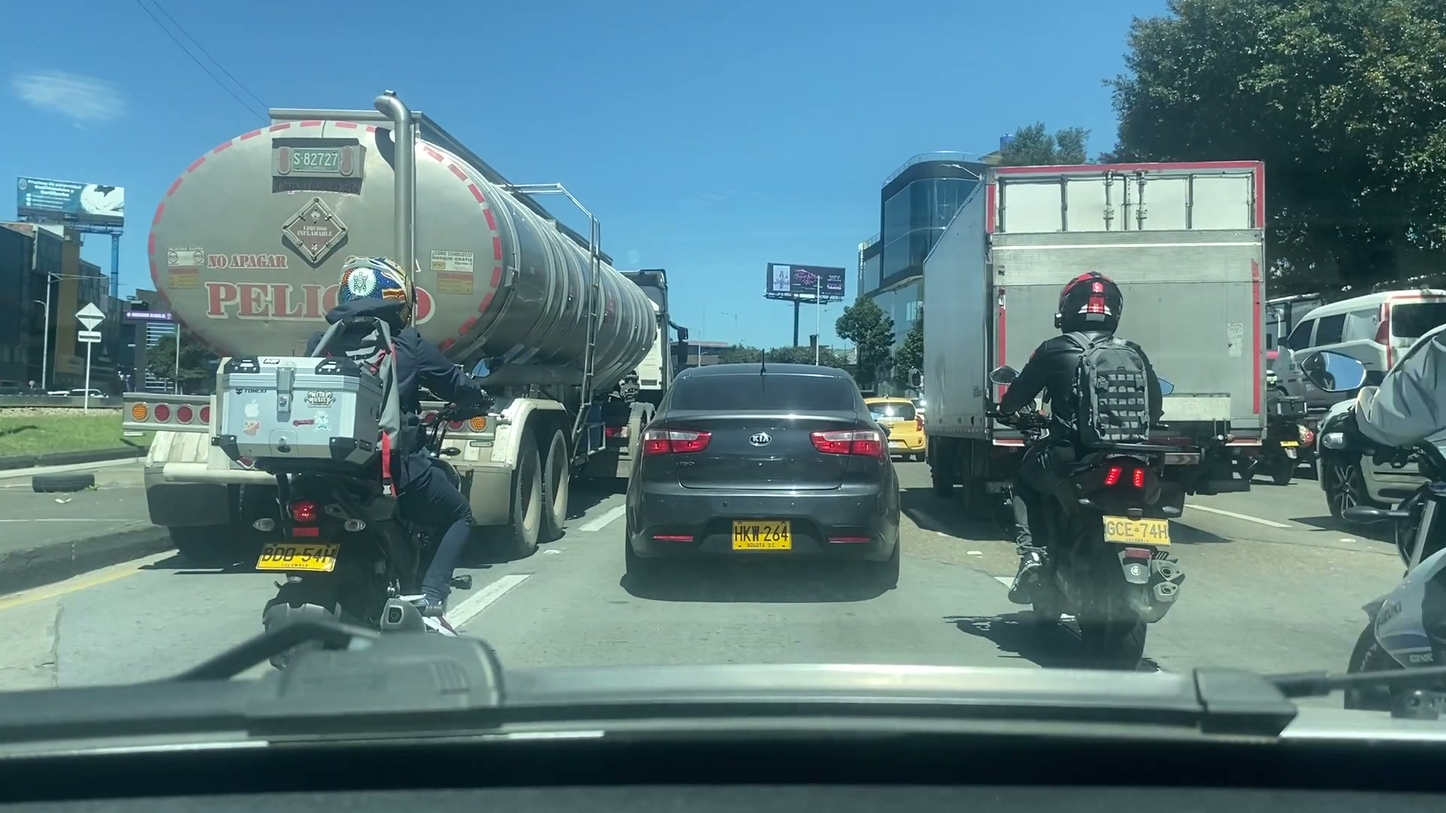car: (624, 362, 904, 584), (1270, 284, 1446, 411), (856, 391, 927, 462)
motorcycle: (977, 397, 1219, 679), (251, 447, 476, 673), (1328, 425, 1446, 733), (1263, 393, 1314, 484)
person: (282, 243, 474, 639), (997, 265, 1188, 609)
truck: (136, 91, 689, 564), (924, 158, 1274, 525)
